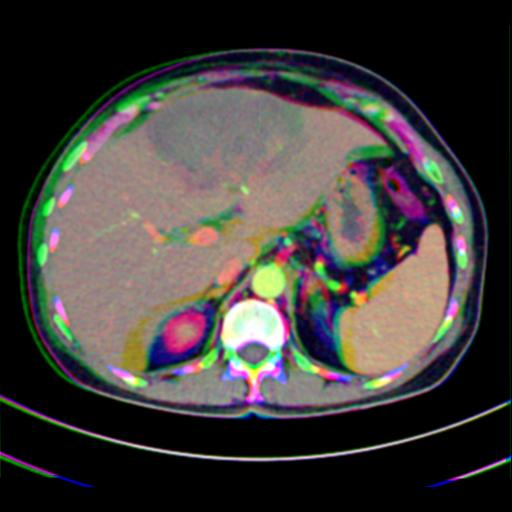Abscess: (146, 89, 303, 187)
